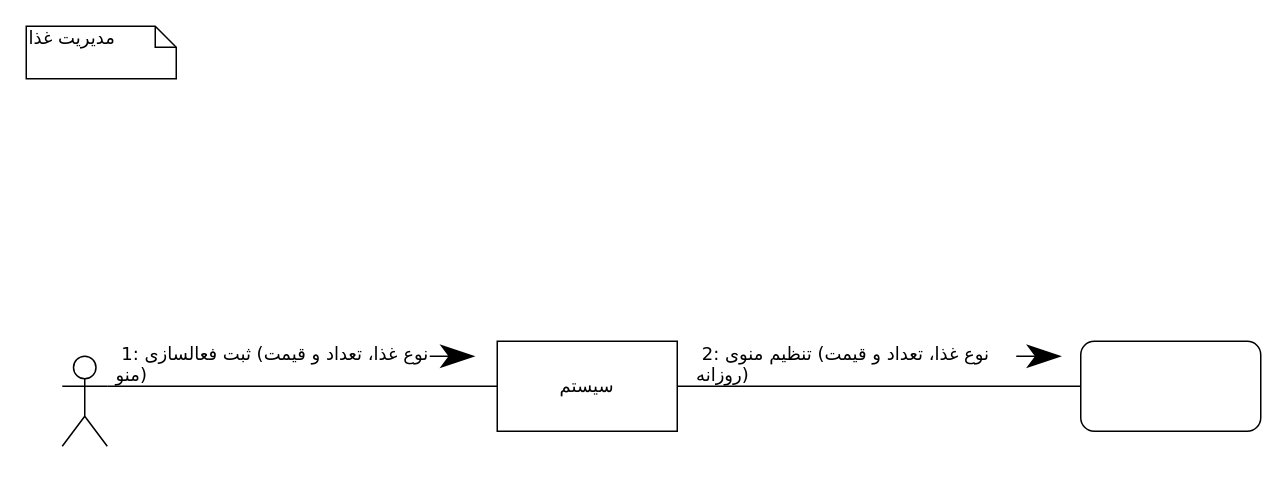
Image size: 1287x504. Some labels were removed from this diagram. Each missing label, with the box of its shape:
رستوران:رستوران: (1079, 340, 1261, 431)
فروشنده: (61, 355, 107, 446)
